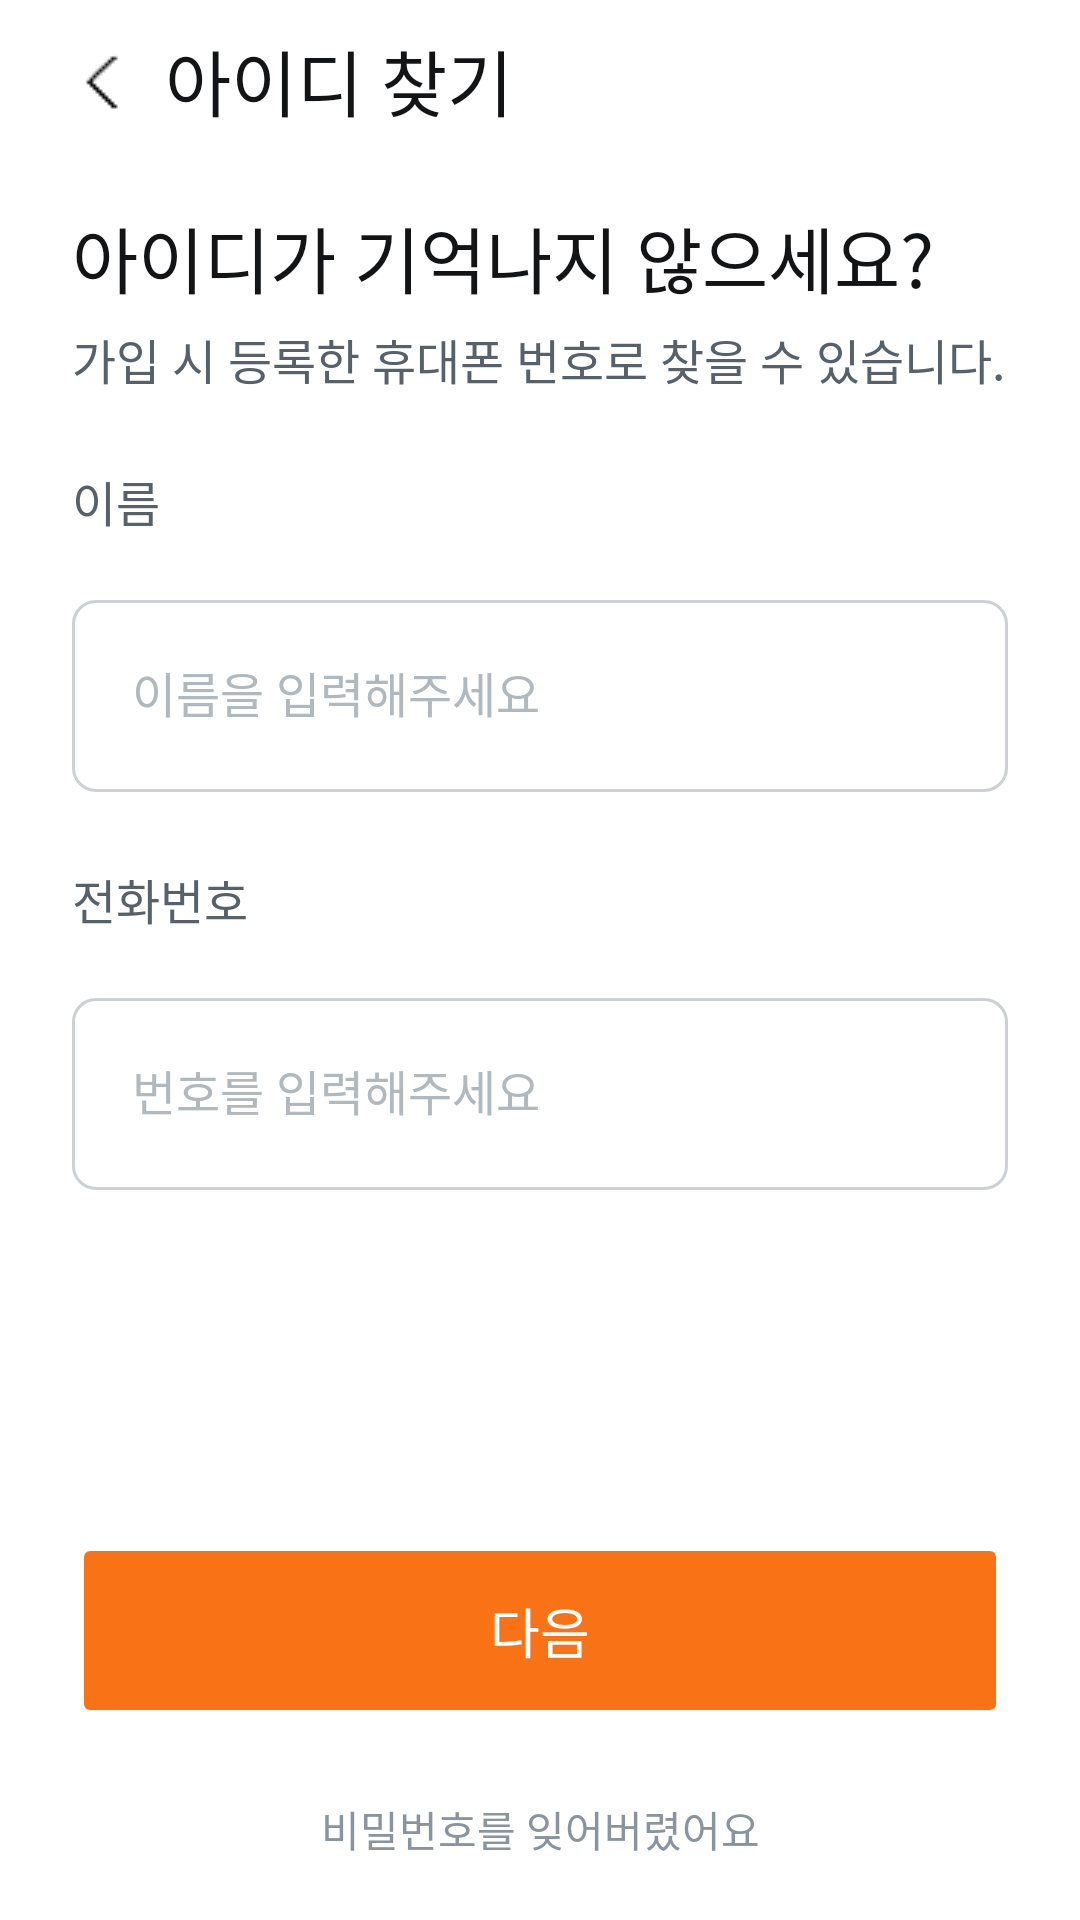

Where to tap for icons on this 1080 × 1920 app screen, as (x=x, y=y):
back: (x=102, y=82)
